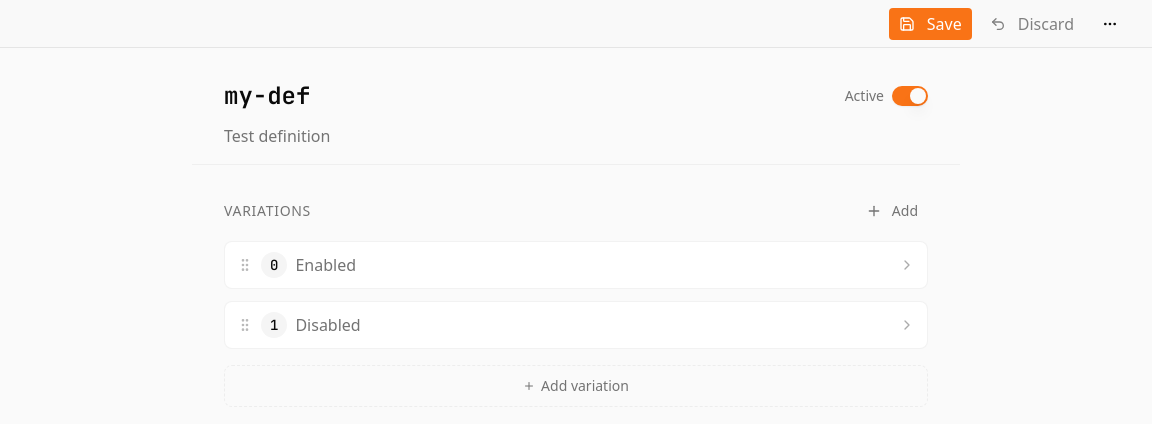
it: DefinitionEditor › disables Refresh when definition is dirty
Step 1. Click the button named "more actions" → (1110, 24), box [1092,8,1128,40]
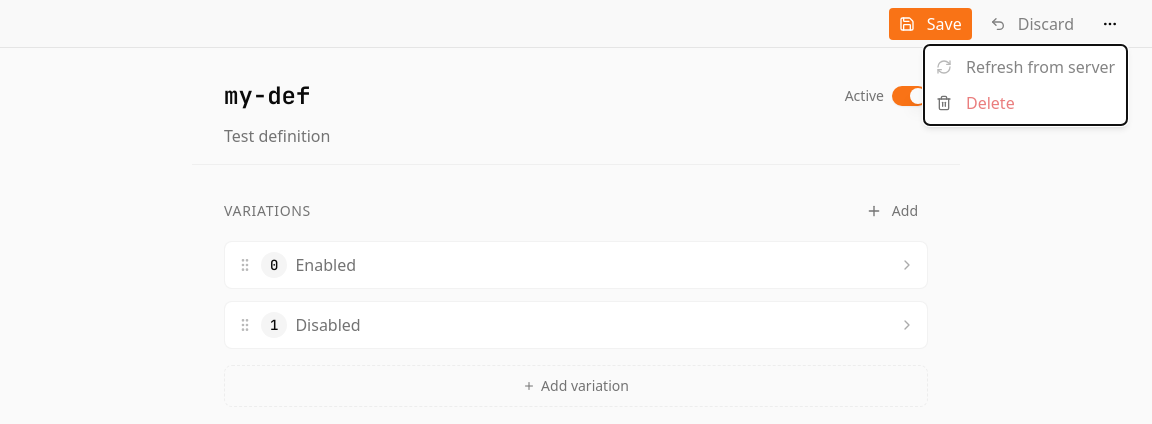
Expected: the menu item "Refresh from server" is shown, [928,49,1123,85]
